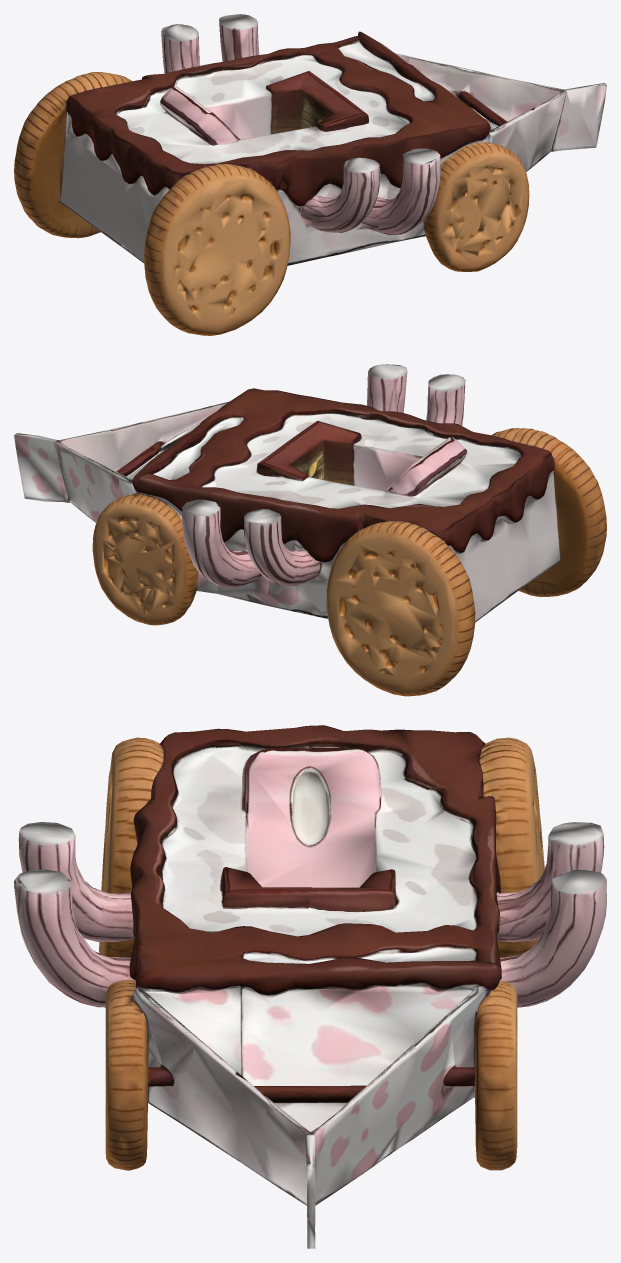
File: dessert-auto.glb
3 views of the same model, one above another, from view 1: azimuth 30°, elevation 25°; view 2: azimuth 150°, elevation 25°; view 3: azimuth 270°, elevation 25° (orthographic). The views are drawn at different scales.
Visible parts, largest first — view 1: tripo_node_0daa2259-6177-4005-bb6e-ccaa6f6afdf3, Roue_0_maillage, Roue_2_maillage, Roue_1_maillage; view 2: tripo_node_0daa2259-6177-4005-bb6e-ccaa6f6afdf3, Roue_1_maillage, Roue_3_maillage, Roue_0_maillage; view 3: tripo_node_0daa2259-6177-4005-bb6e-ccaa6f6afdf3, Roue_1_maillage, Roue_2_maillage, Roue_3_maillage, Roue_0_maillage.
Part boxes in pixels (x1,y1,x2,y2): tripo_node_0daa2259-6177-4005-bb6e-ccaa6f6afdf3: (33, 14, 606, 334); Roue_0_maillage: (144, 157, 292, 335); Roue_2_maillage: (422, 156, 529, 271); Roue_1_maillage: (14, 75, 132, 238); tripo_node_0daa2259-6177-4005-bb6e-ccaa6f6afdf3: (14, 364, 586, 694); Roue_1_maillage: (326, 520, 475, 696); Roue_3_maillage: (92, 492, 199, 625); Roue_0_maillage: (482, 428, 606, 596); tripo_node_0daa2259-6177-4005-bb6e-ccaa6f6afdf3: (14, 725, 606, 1248); Roue_1_maillage: (480, 740, 544, 957); Roue_2_maillage: (105, 992, 160, 1170); Roue_3_maillage: (463, 991, 517, 1170); Roue_0_maillage: (99, 735, 171, 957).
Size of the model in its own units: 2.8 by 0.9175 by 1.9.
Materials: 1 (1 with a texture image).
